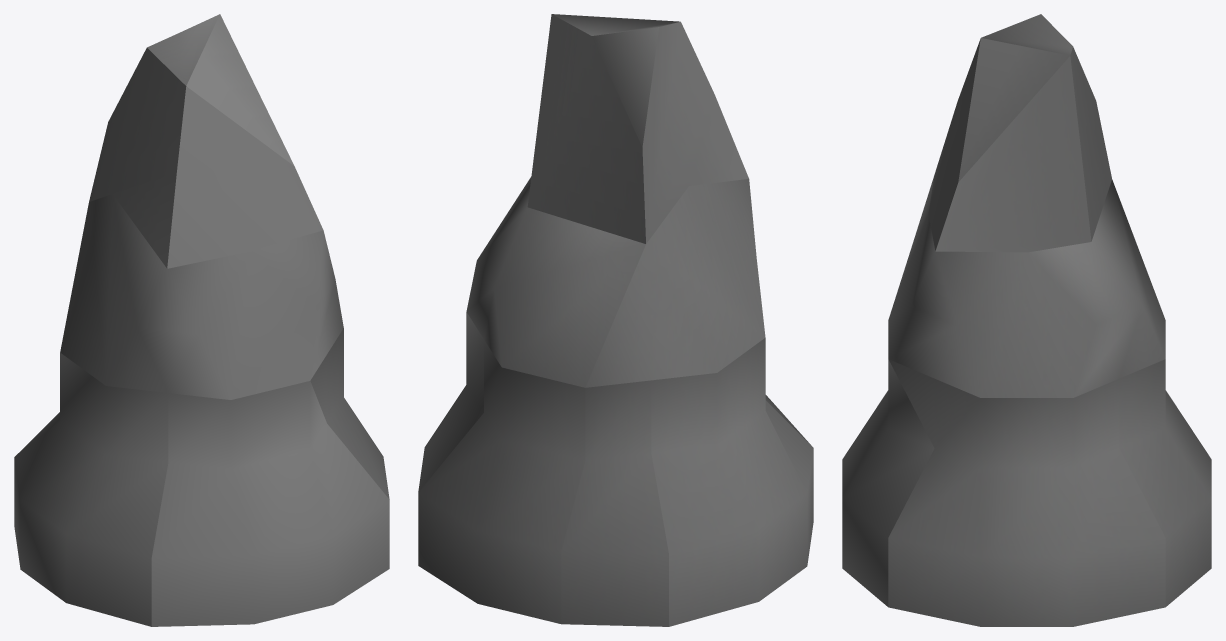
Rendered from Rock1.fbx.
3 renders of one model, left to right at view 1: azimuth 30°, elevation 25°; view 2: azimuth 150°, elevation 25°; view 3: azimuth 270°, elevation 25°, orthographic. The views are drawn at different scales.
Parts seen in each view (by area): view 1: pCube1; view 2: pCube1; view 3: pCube1.
Boxes of the visible parts, x1,y1,x2,y2 form: pCube1: [14, 14, 389, 626]; pCube1: [418, 14, 813, 626]; pCube1: [842, 14, 1211, 626].
Bounding box in the file's own units: 8 × 12.25 × 8.
Materials: 1 (1 with a texture image).
